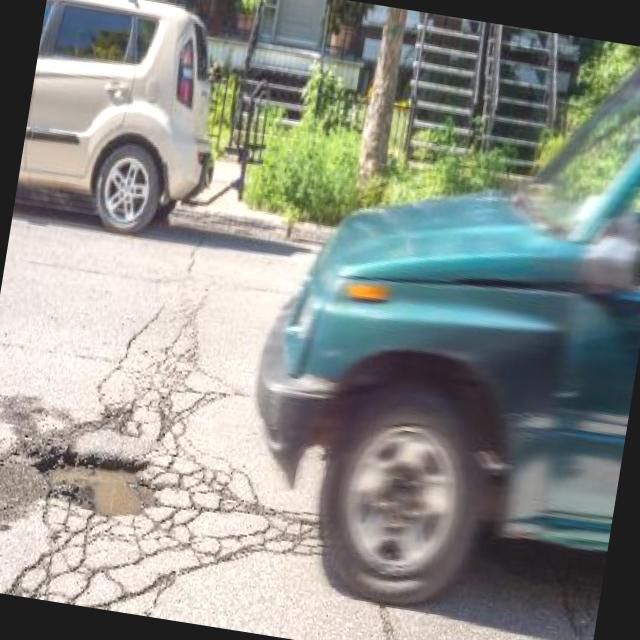Lubang: (49, 465, 153, 516)
Retak-Buaya: (2, 305, 315, 608)
